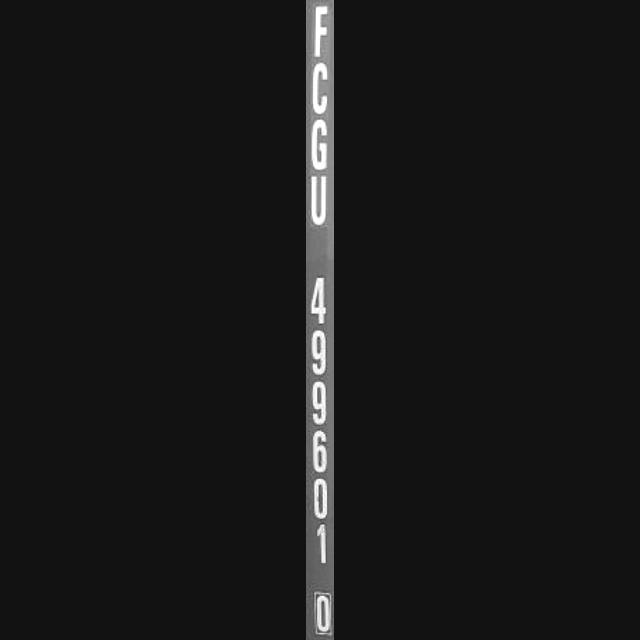0: (306, 474, 334, 522), (312, 589, 334, 633)
1: (310, 522, 334, 570)
4: (306, 270, 332, 328)
6: (306, 428, 334, 476)
9: (306, 328, 334, 384), (308, 380, 334, 430)
c: (306, 58, 334, 118)
f: (306, 1, 334, 62)
g: (306, 113, 334, 173)
u: (306, 172, 334, 230)
